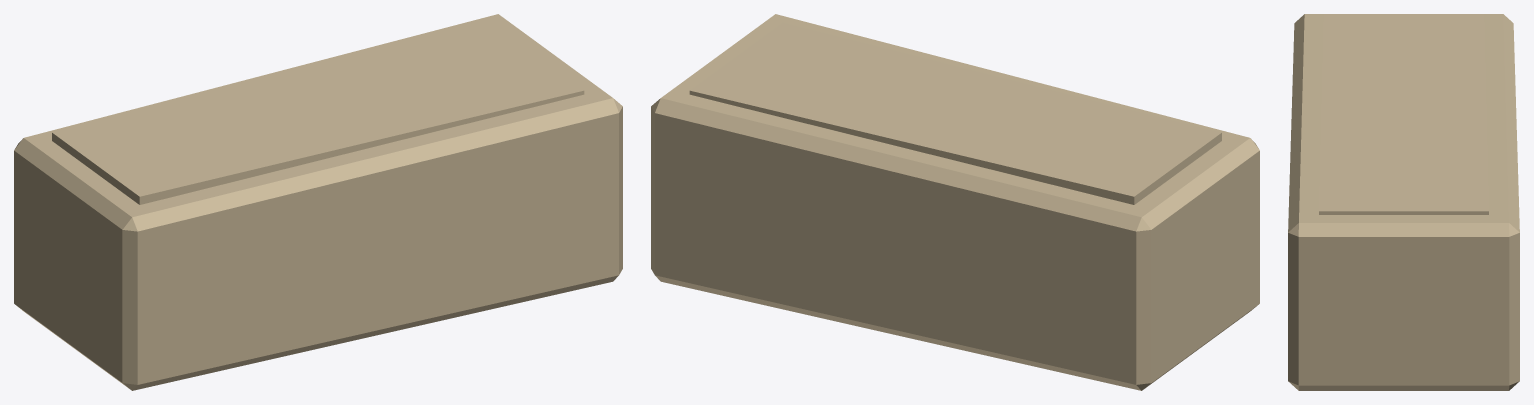
File: planter.glb
The picture shows the model from 3 angles, left to right: view 1: azimuth 30°, elevation 25°; view 2: azimuth 150°, elevation 25°; view 3: azimuth 270°, elevation 25°; orthographic projection. The views are drawn at different scales.
Parts seen in each view (by area): view 1: WB002V2_BoxPlanter.005; view 2: WB002V2_BoxPlanter.005; view 3: WB002V2_BoxPlanter.005.
Boxes of the visible parts, x1,y1,x2,y2 form: WB002V2_BoxPlanter.005: [14, 14, 622, 390]; WB002V2_BoxPlanter.005: [651, 14, 1259, 390]; WB002V2_BoxPlanter.005: [1288, 14, 1519, 390].
Bounding box in the file's own units: 1.8 × 0.6485 × 0.7941.
